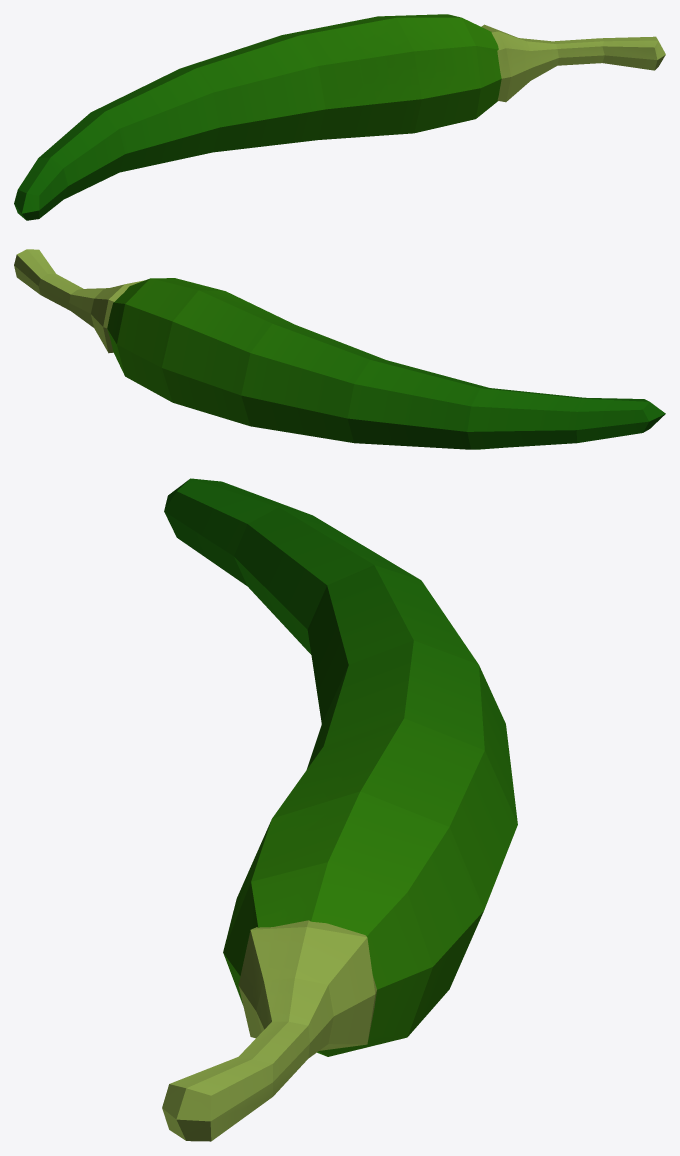
The model's file is chili_pepper_3.fbx.
3 renders of one model, top to bottom at view 1: azimuth 30°, elevation 25°; view 2: azimuth 150°, elevation 25°; view 3: azimuth 270°, elevation 25°, orthographic. The views are drawn at different scales.
Parts seen in each view (by area): view 1: chili_pepper_3; view 2: chili_pepper_3; view 3: chili_pepper_3.
Part boxes in pixels (x1,y1,x2,y2): chili_pepper_3: (14, 14, 665, 220); chili_pepper_3: (14, 249, 665, 449); chili_pepper_3: (162, 478, 517, 1141).
Bounding box in the file's own units: 0.1819 × 0.0307 × 0.0437.
